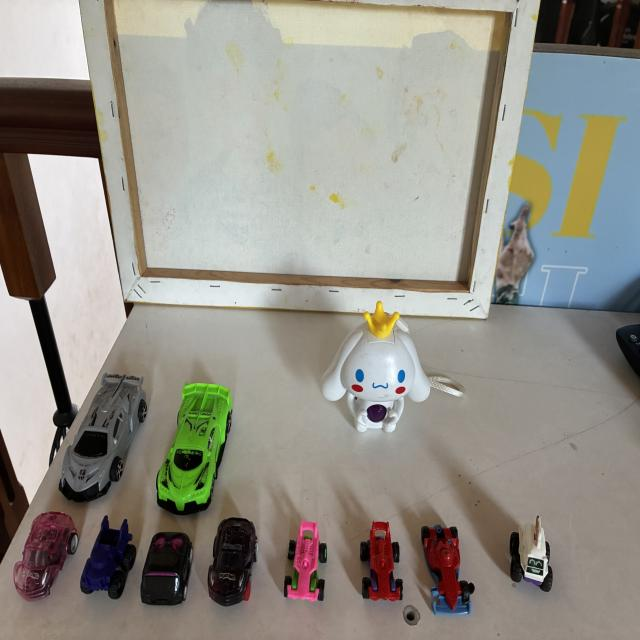cars: (59, 374, 147, 501), (156, 383, 232, 515), (14, 512, 78, 599), (421, 525, 474, 615), (81, 516, 136, 599), (207, 517, 258, 605), (140, 532, 193, 604), (284, 521, 327, 601), (360, 522, 403, 601), (510, 516, 552, 591)
